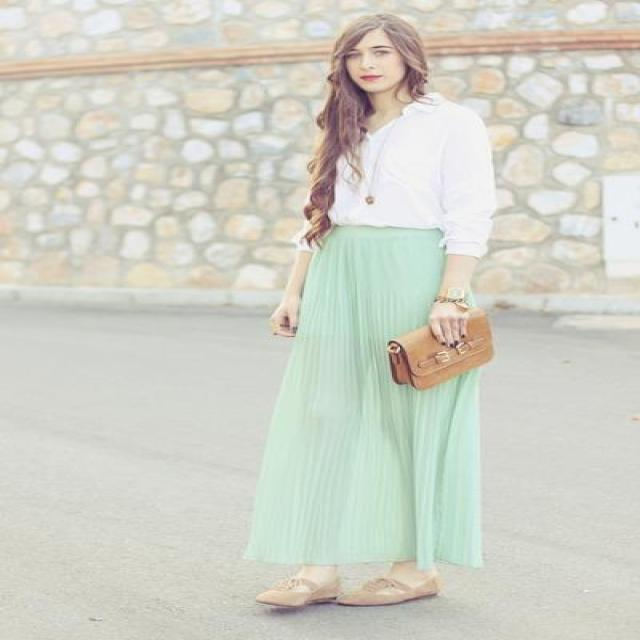bag: (387, 316, 493, 389)
shirt: (328, 101, 507, 256)
shoe: (242, 547, 420, 617)
skirt: (258, 223, 502, 570)
